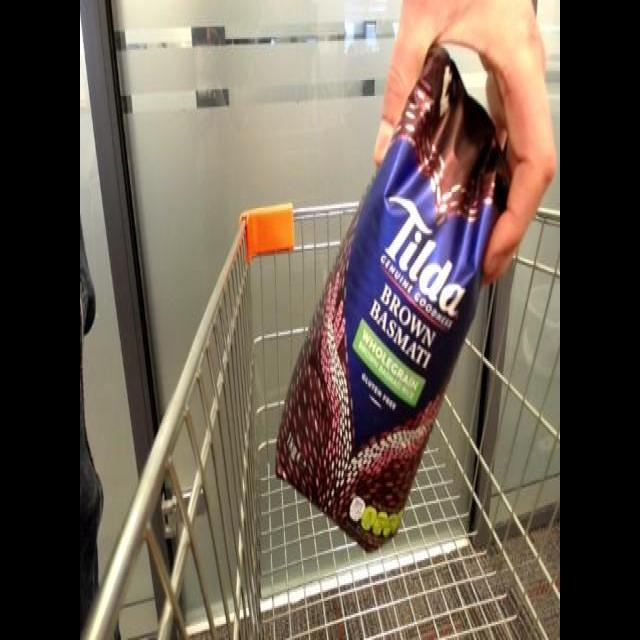Tida: (266, 46, 537, 556)
